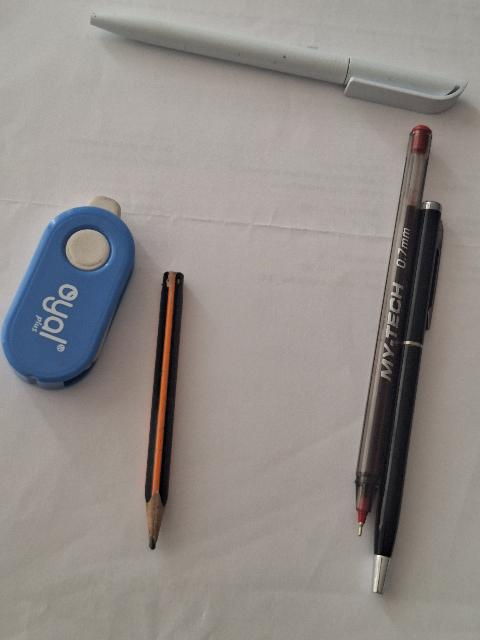writing_tool: (89, 6, 470, 118), (353, 124, 437, 533), (369, 197, 447, 591), (143, 270, 186, 547)
